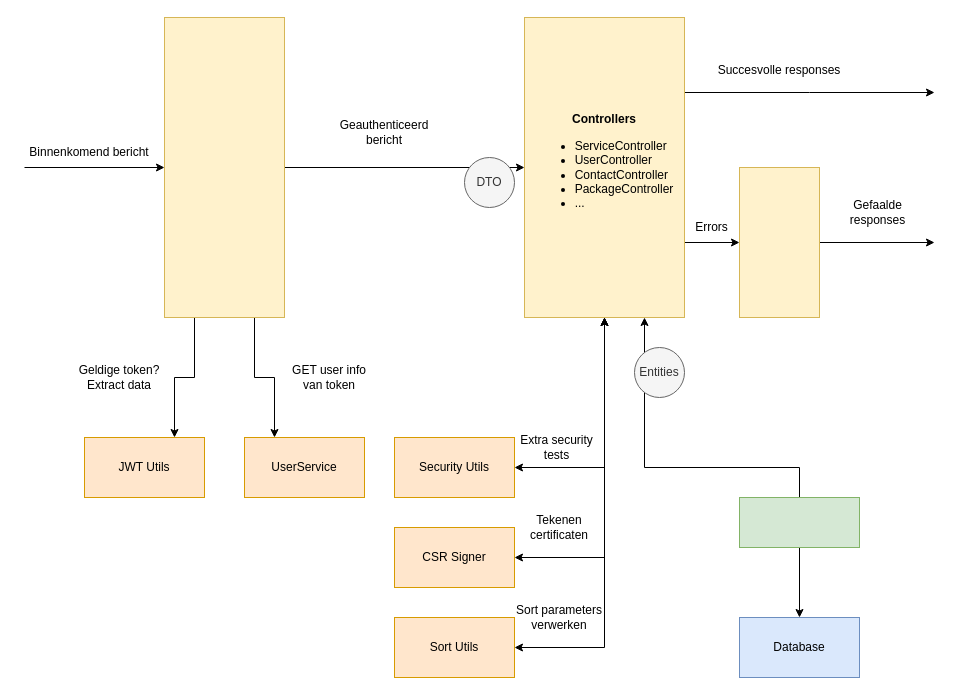
This 960x695 diagram has some shape labels left out. Here are the shapes that lost their labels. From the top down, the box of each, then its label:
(164, 16, 284, 318): JWT Filter
(738, 166, 820, 318): Exception advice
(738, 496, 860, 548): Repositories (+ archive)
